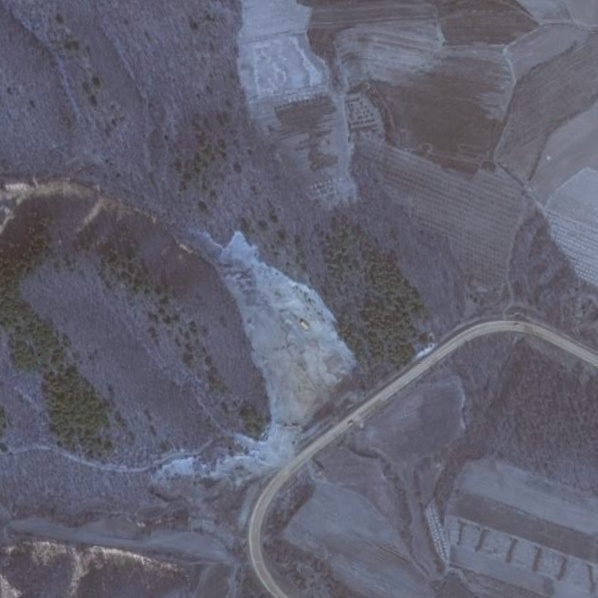slope: (148, 227, 357, 489)
